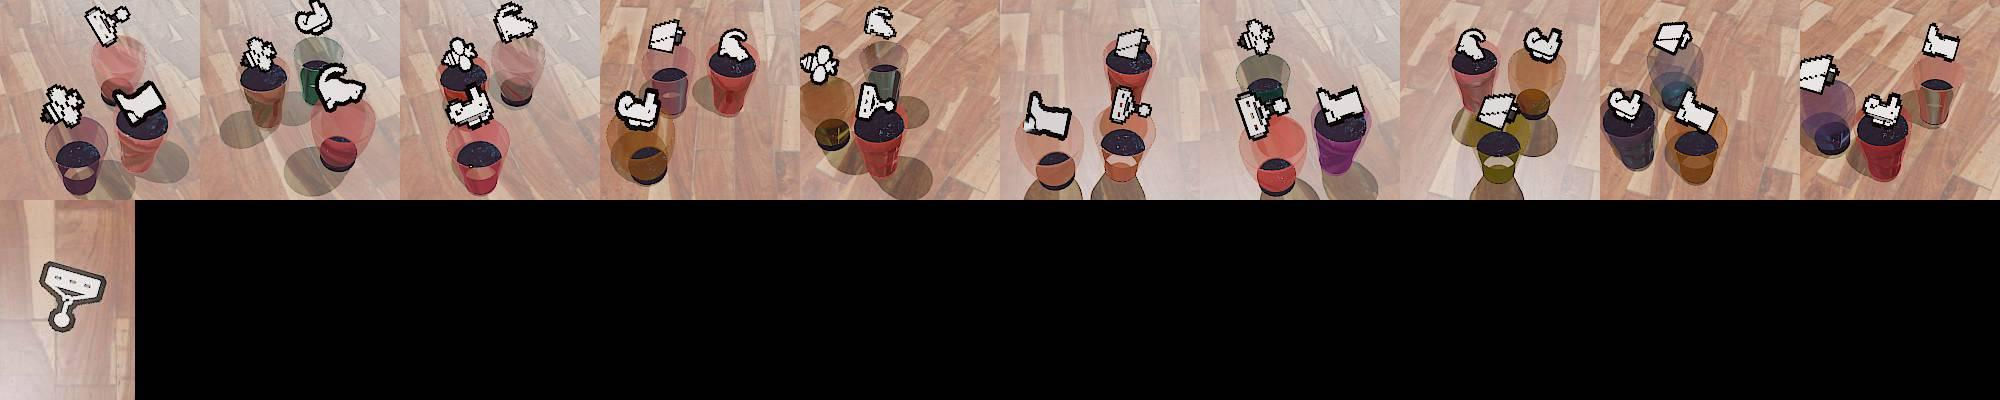icon: (38, 259, 108, 332), (1235, 90, 1291, 139), (112, 80, 168, 127), (1023, 89, 1073, 140), (315, 64, 368, 112), (1316, 84, 1368, 126), (83, 4, 131, 49), (446, 83, 494, 128), (39, 85, 85, 129), (615, 87, 661, 130), (491, 1, 537, 43), (1674, 91, 1719, 133), (1107, 83, 1153, 124), (800, 43, 841, 85), (1798, 54, 1841, 94), (855, 82, 896, 123), (1522, 25, 1563, 63), (1476, 91, 1518, 128), (1861, 92, 1903, 128), (1238, 18, 1275, 58), (294, 0, 333, 37), (440, 36, 480, 72), (1652, 20, 1693, 55), (1923, 23, 1960, 61), (714, 27, 751, 64), (648, 18, 687, 53), (1606, 87, 1646, 121), (241, 36, 278, 71), (1454, 28, 1489, 64), (863, 6, 897, 40), (1114, 27, 1150, 59)
